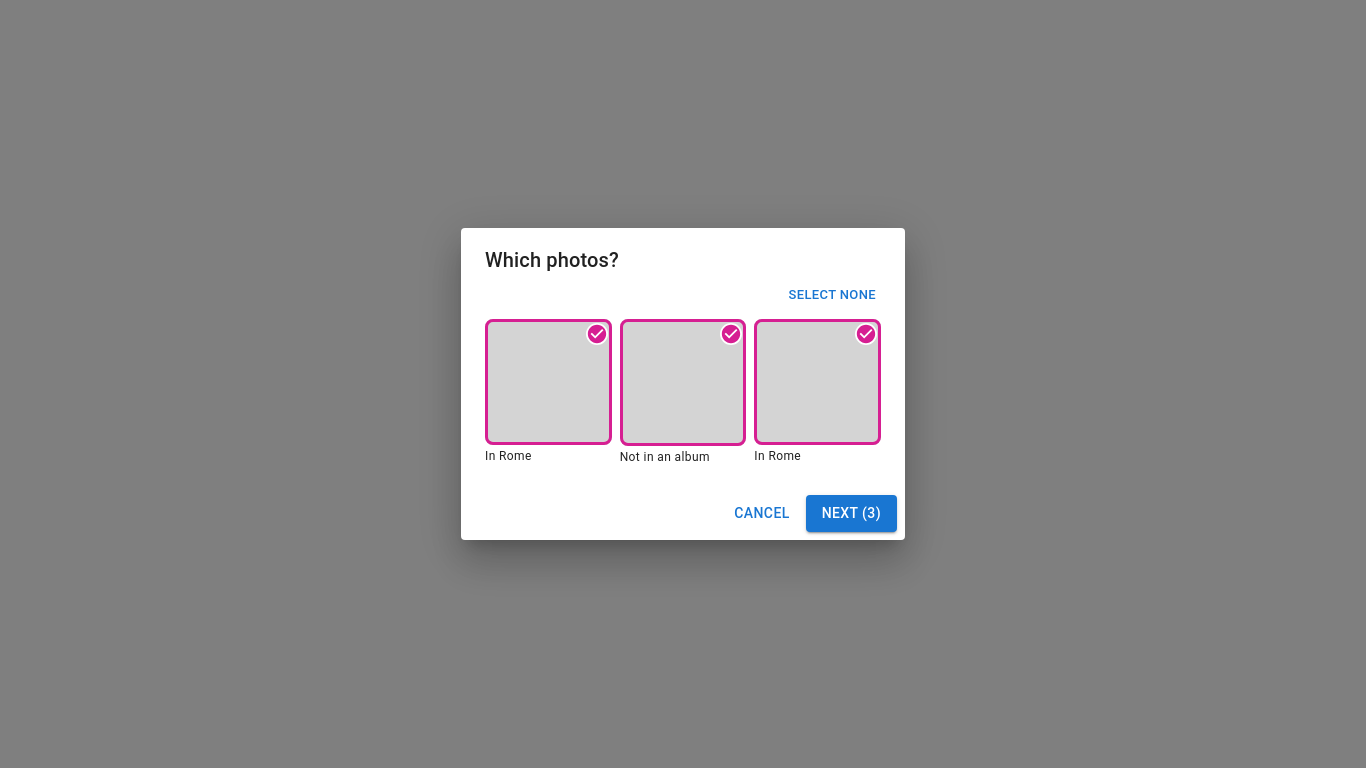
Test: ChoosePhotosDialog › stays open and says so when saving fails
Step 1. Click the button "Next (3)" → (851, 514), box [806,495,897,532]
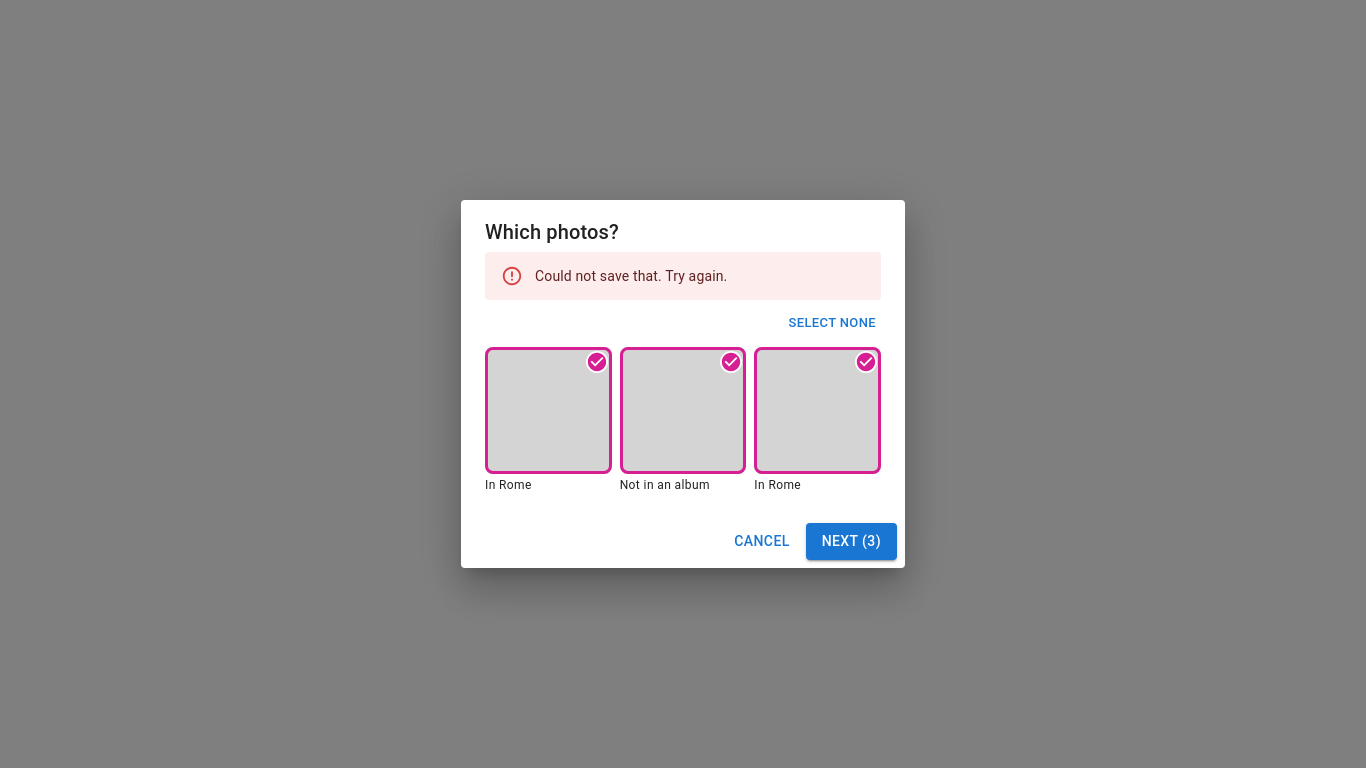
Expected: the text "Could not save that. Try again." is shown, [535,268,727,284]
